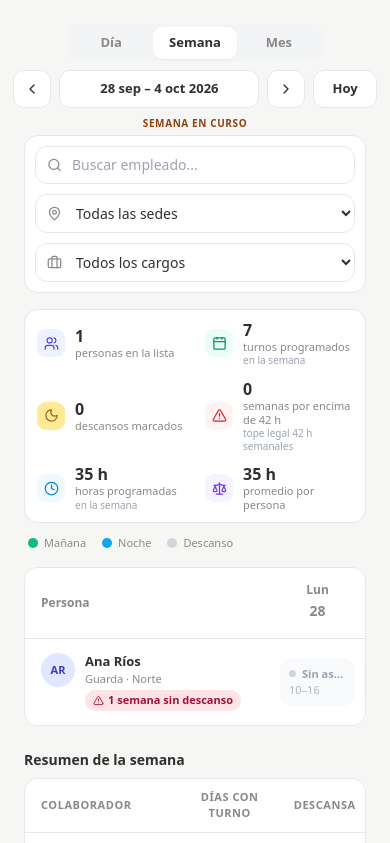
Test: el veredicto del mes › cambiar el patrón vuelve a juzgar
Click the button with aria-label "marcar la semana de Ana Ríos": (150, 682) [41,653,260,711]
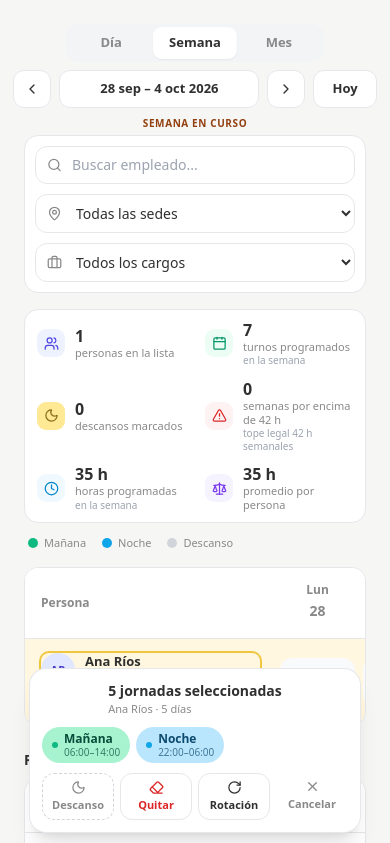
Click the button "Rotación": (234, 796) [198,772,270,820]
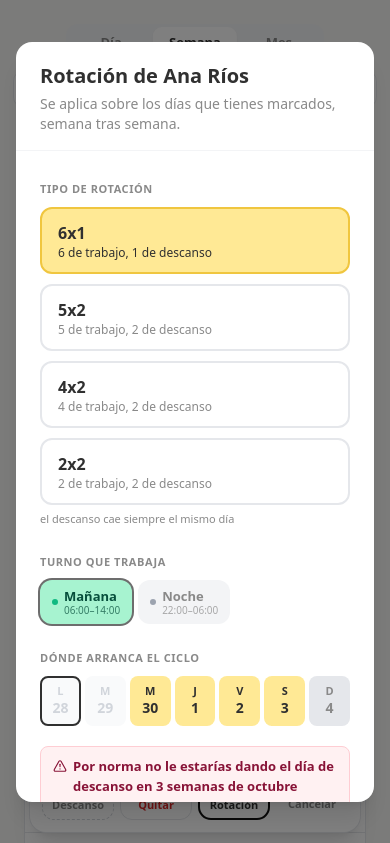
Click the button "2x2 2 de trabajo, 2 de descanso": (98, 484) [40,438,350,505]
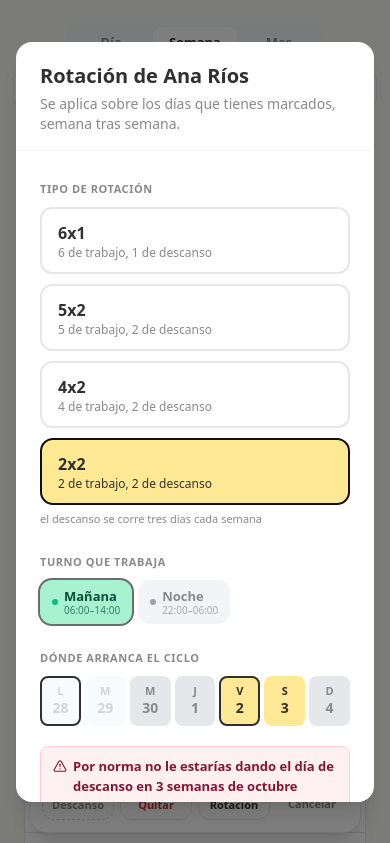
Result: the text "el descanso se corre tres días cada semana" is shown at [40,511,262,526]
